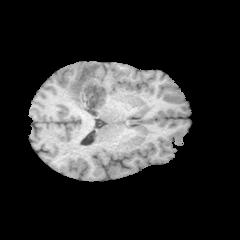glioma: (68, 63, 108, 112)
